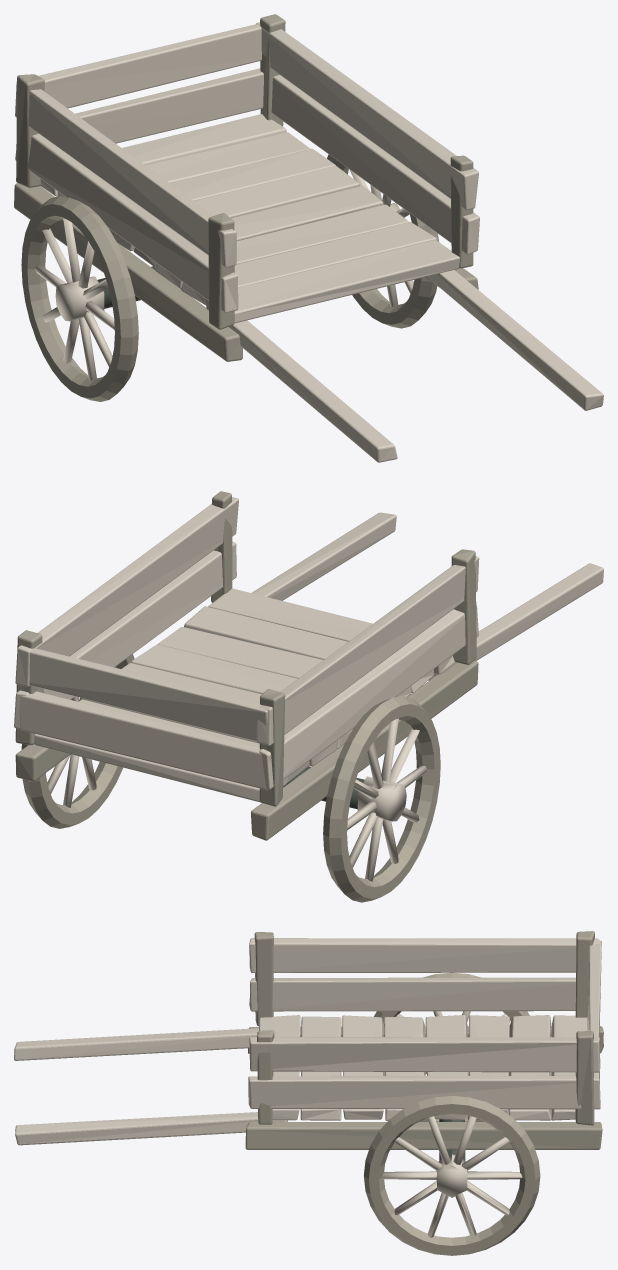
The model's file is SM_WLA_Cart_A.fbx.
The picture shows the model from 3 angles, top to bottom: view 1: azimuth 30°, elevation 25°; view 2: azimuth 150°, elevation 25°; view 3: azimuth 270°, elevation 25°; orthographic projection. The views are drawn at different scales.
Parts seen in each view (by area): view 1: SM_WLA_Cart_A; view 2: SM_WLA_Cart_A; view 3: SM_WLA_Cart_A.
Boxes of the visible parts, x1=… form: SM_WLA_Cart_A: x1=14, y1=14, x2=603, y2=462; SM_WLA_Cart_A: x1=14, y1=491, x2=603, y2=902; SM_WLA_Cart_A: x1=14, y1=931, x2=603, y2=1255.
Size of what is drawn, in the model's own units: 3.24 by 1.76 by 1.28.
